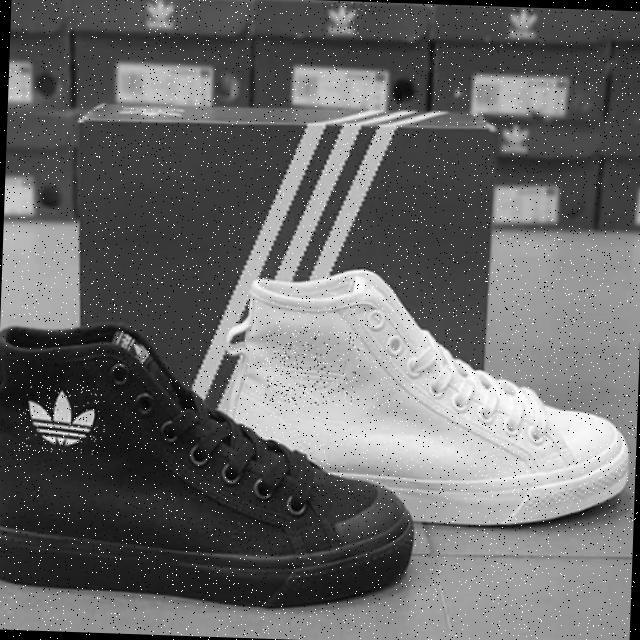Adidas: (265, 330, 361, 407), (18, 385, 106, 456), (497, 6, 546, 55), (494, 112, 538, 163), (319, 0, 366, 33), (137, 0, 183, 28)
